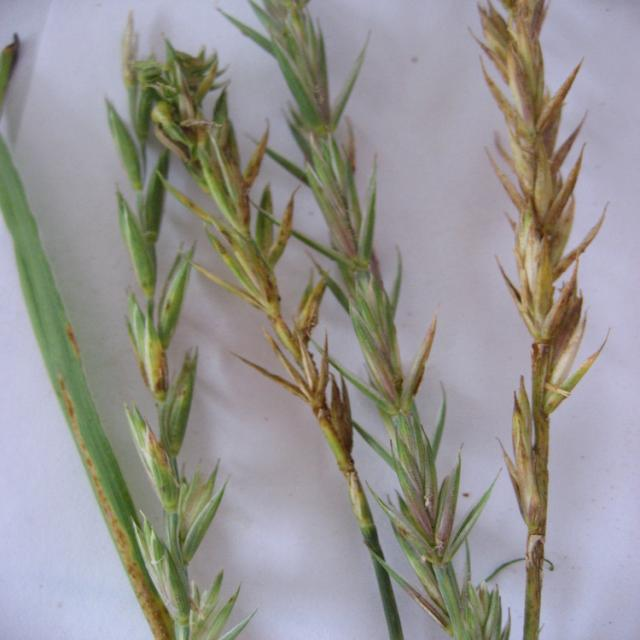wheat-stemrust: (0, 136, 241, 640), (135, 46, 375, 543), (475, 0, 609, 640)
